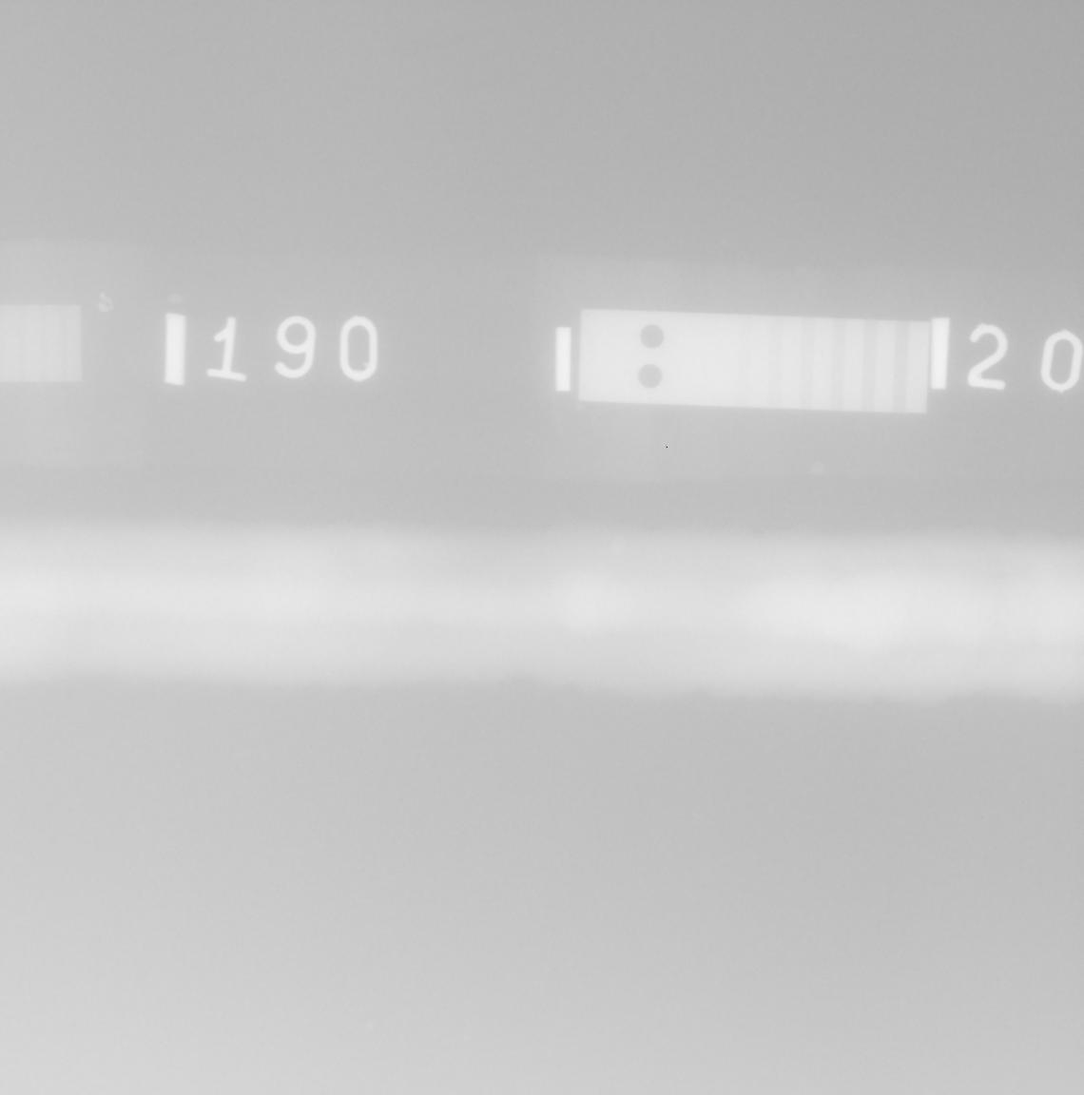Reference Standard 2: (578, 309, 929, 414)
